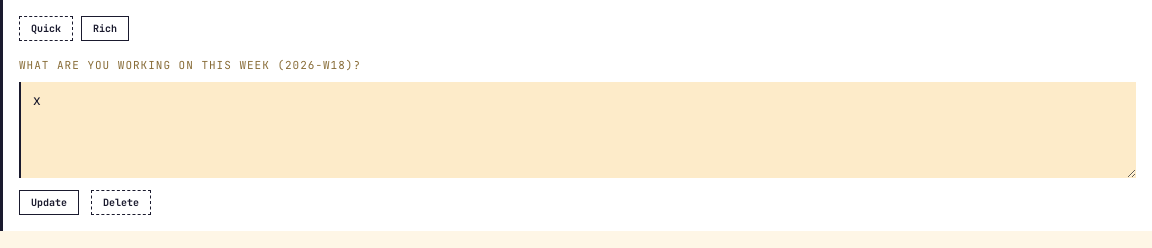
Test: StatusEditor › shows refresh prompt on sha_conflict
This screenshot has width=1152, height=248.
Replace the text in the text box labelled "What are you working on this week (2026-W18)?" with "y". click: [578, 130]
box: [19,82,1136,178]
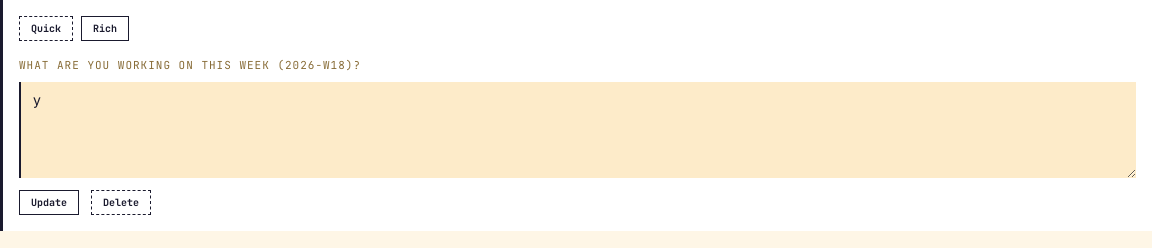
Click the button "Update". click: [49, 202]
box: [19,190,79,214]
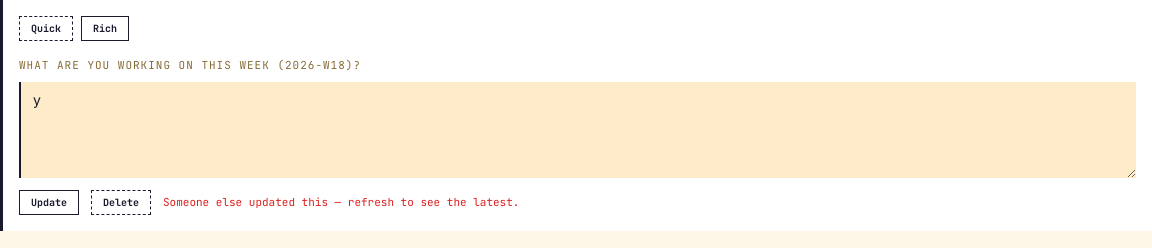
Now the text "Someone else updated this — refresh to see the latest." is shown, box [163,194,519,210]
